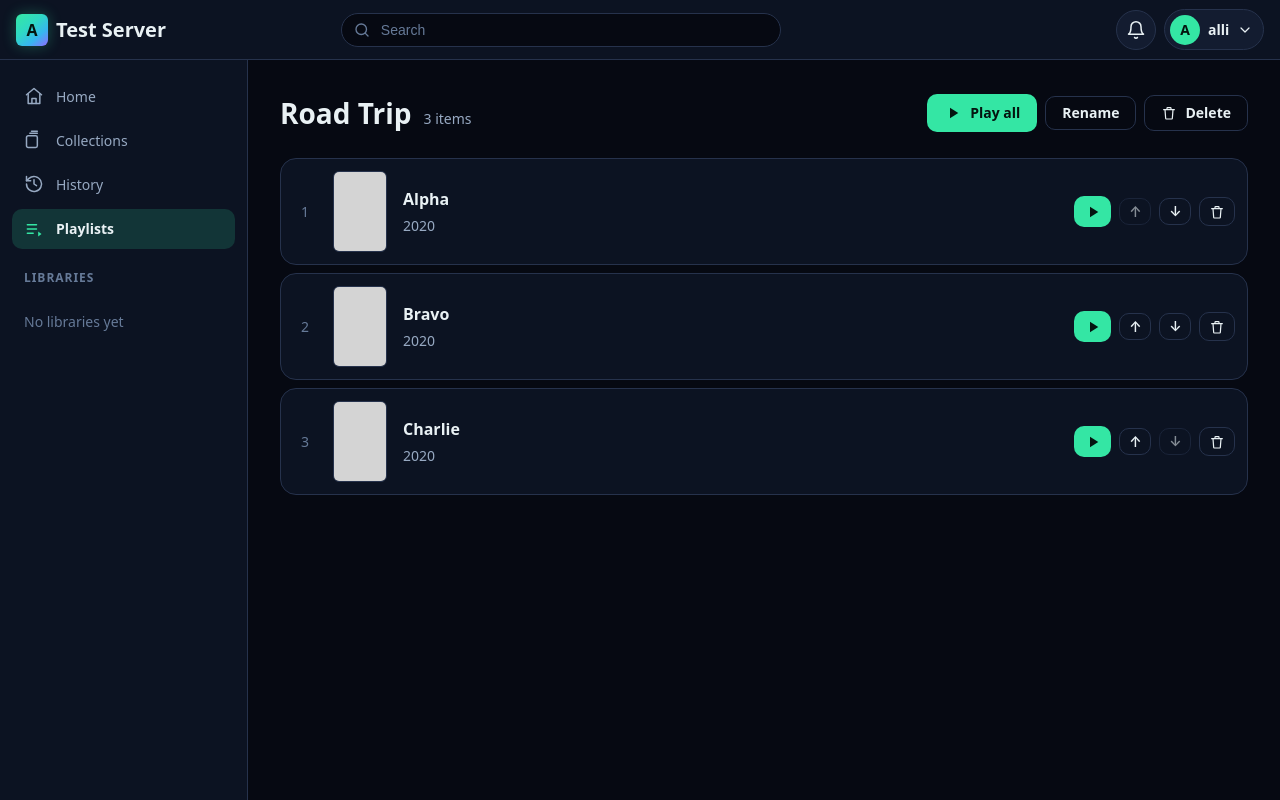
Test: PlaylistDetailPage › renames the playlist (PATCH)
The width and height of the screenshot is (1280, 800).
Expected: the heading "Road Trip" is shown, [280,92,412,134]
Click the button "Rename".
click(1091, 113)  # box [1045,96,1136,130]
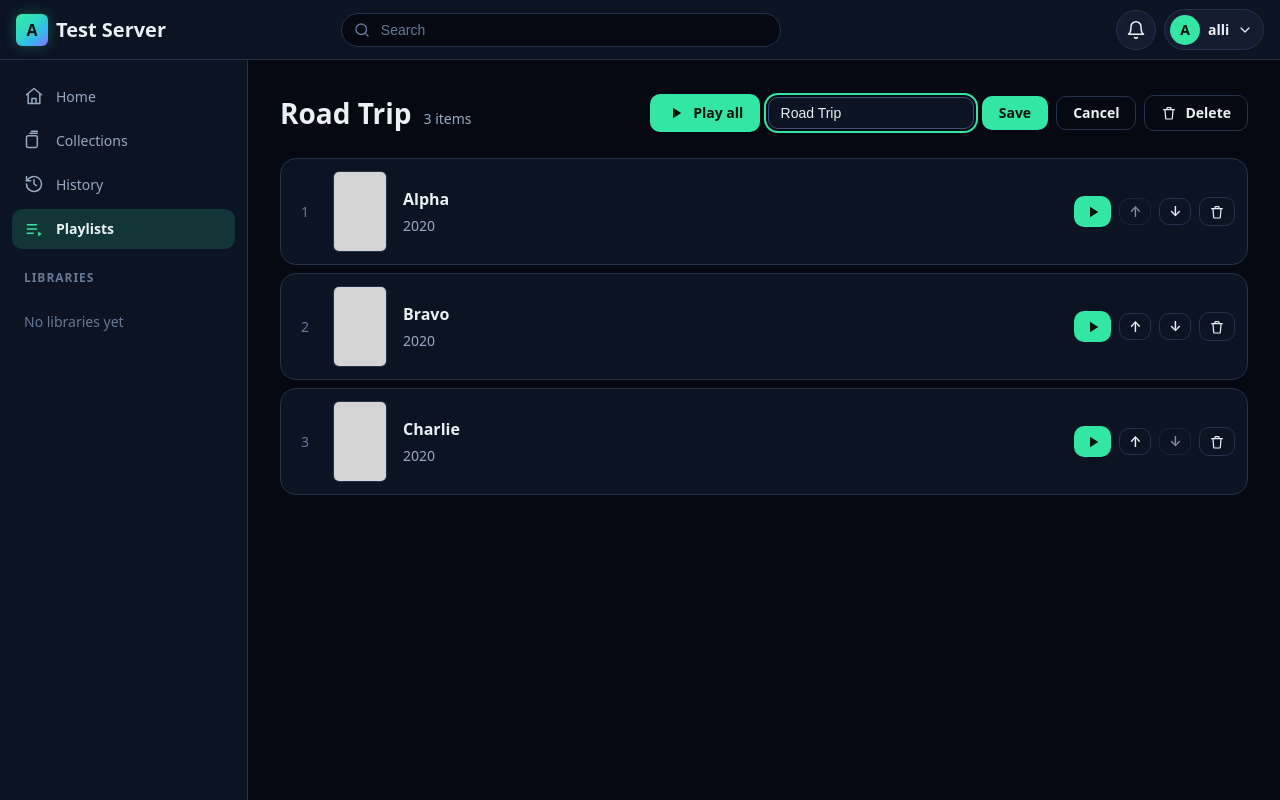
Replace the text in the field named "Playlist name" with "Long Drive" at (871, 113), box [768,97,974,129]
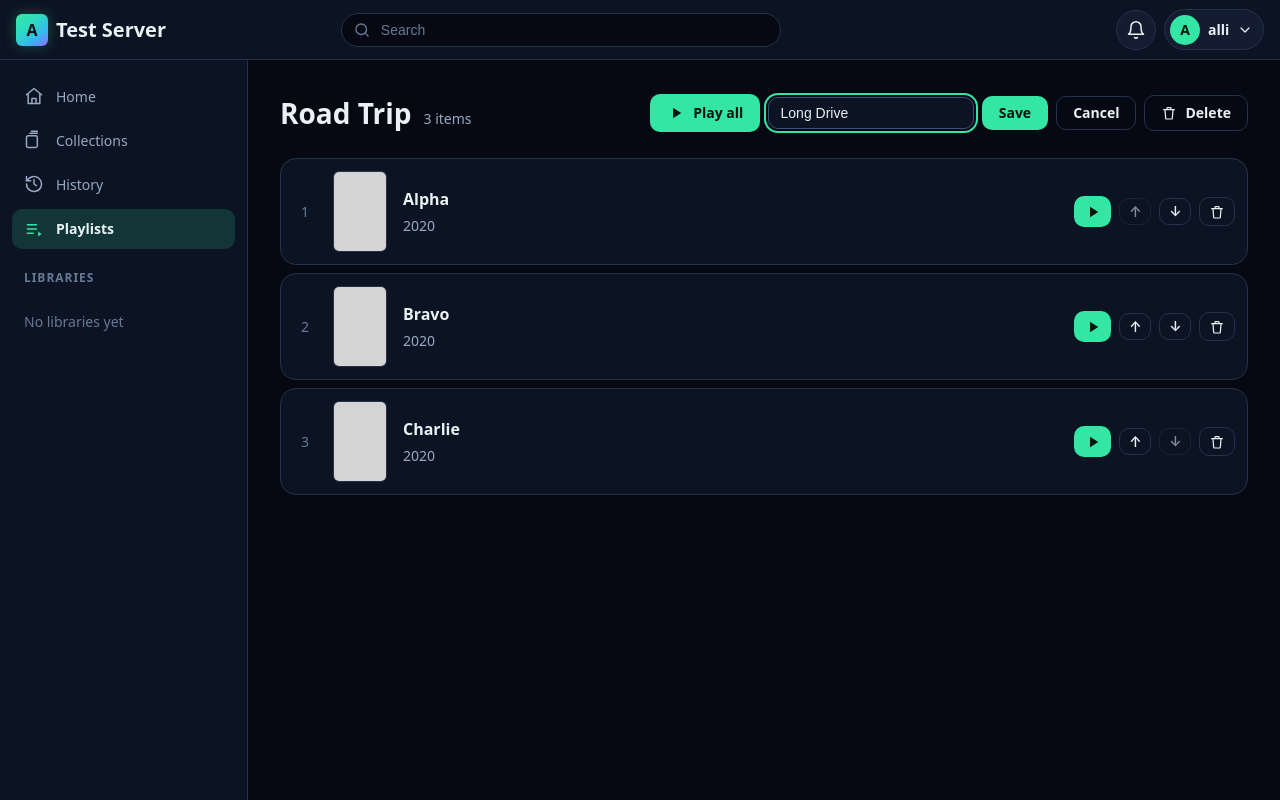
Click the button "Save".
click(1015, 113)  # box [982,96,1048,130]
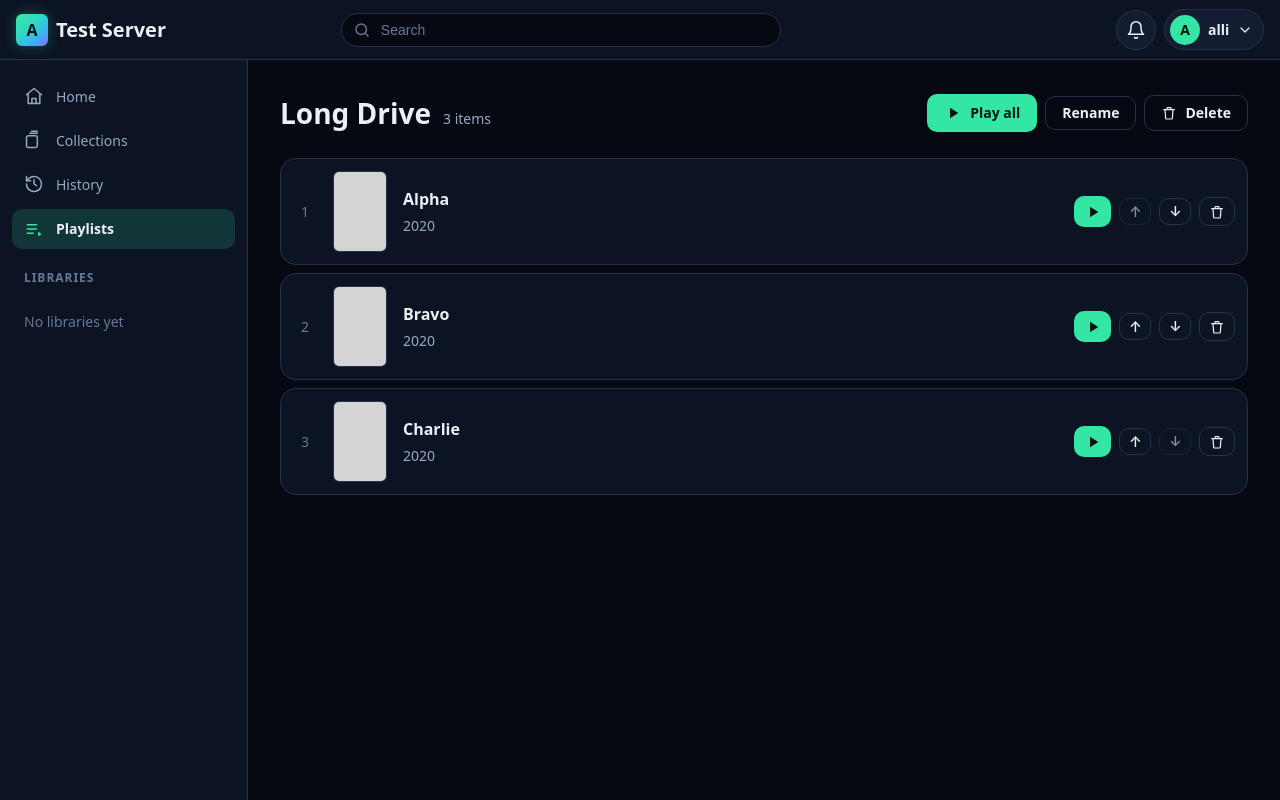
Expected: the heading "Long Drive" is shown, [280,92,431,134]
